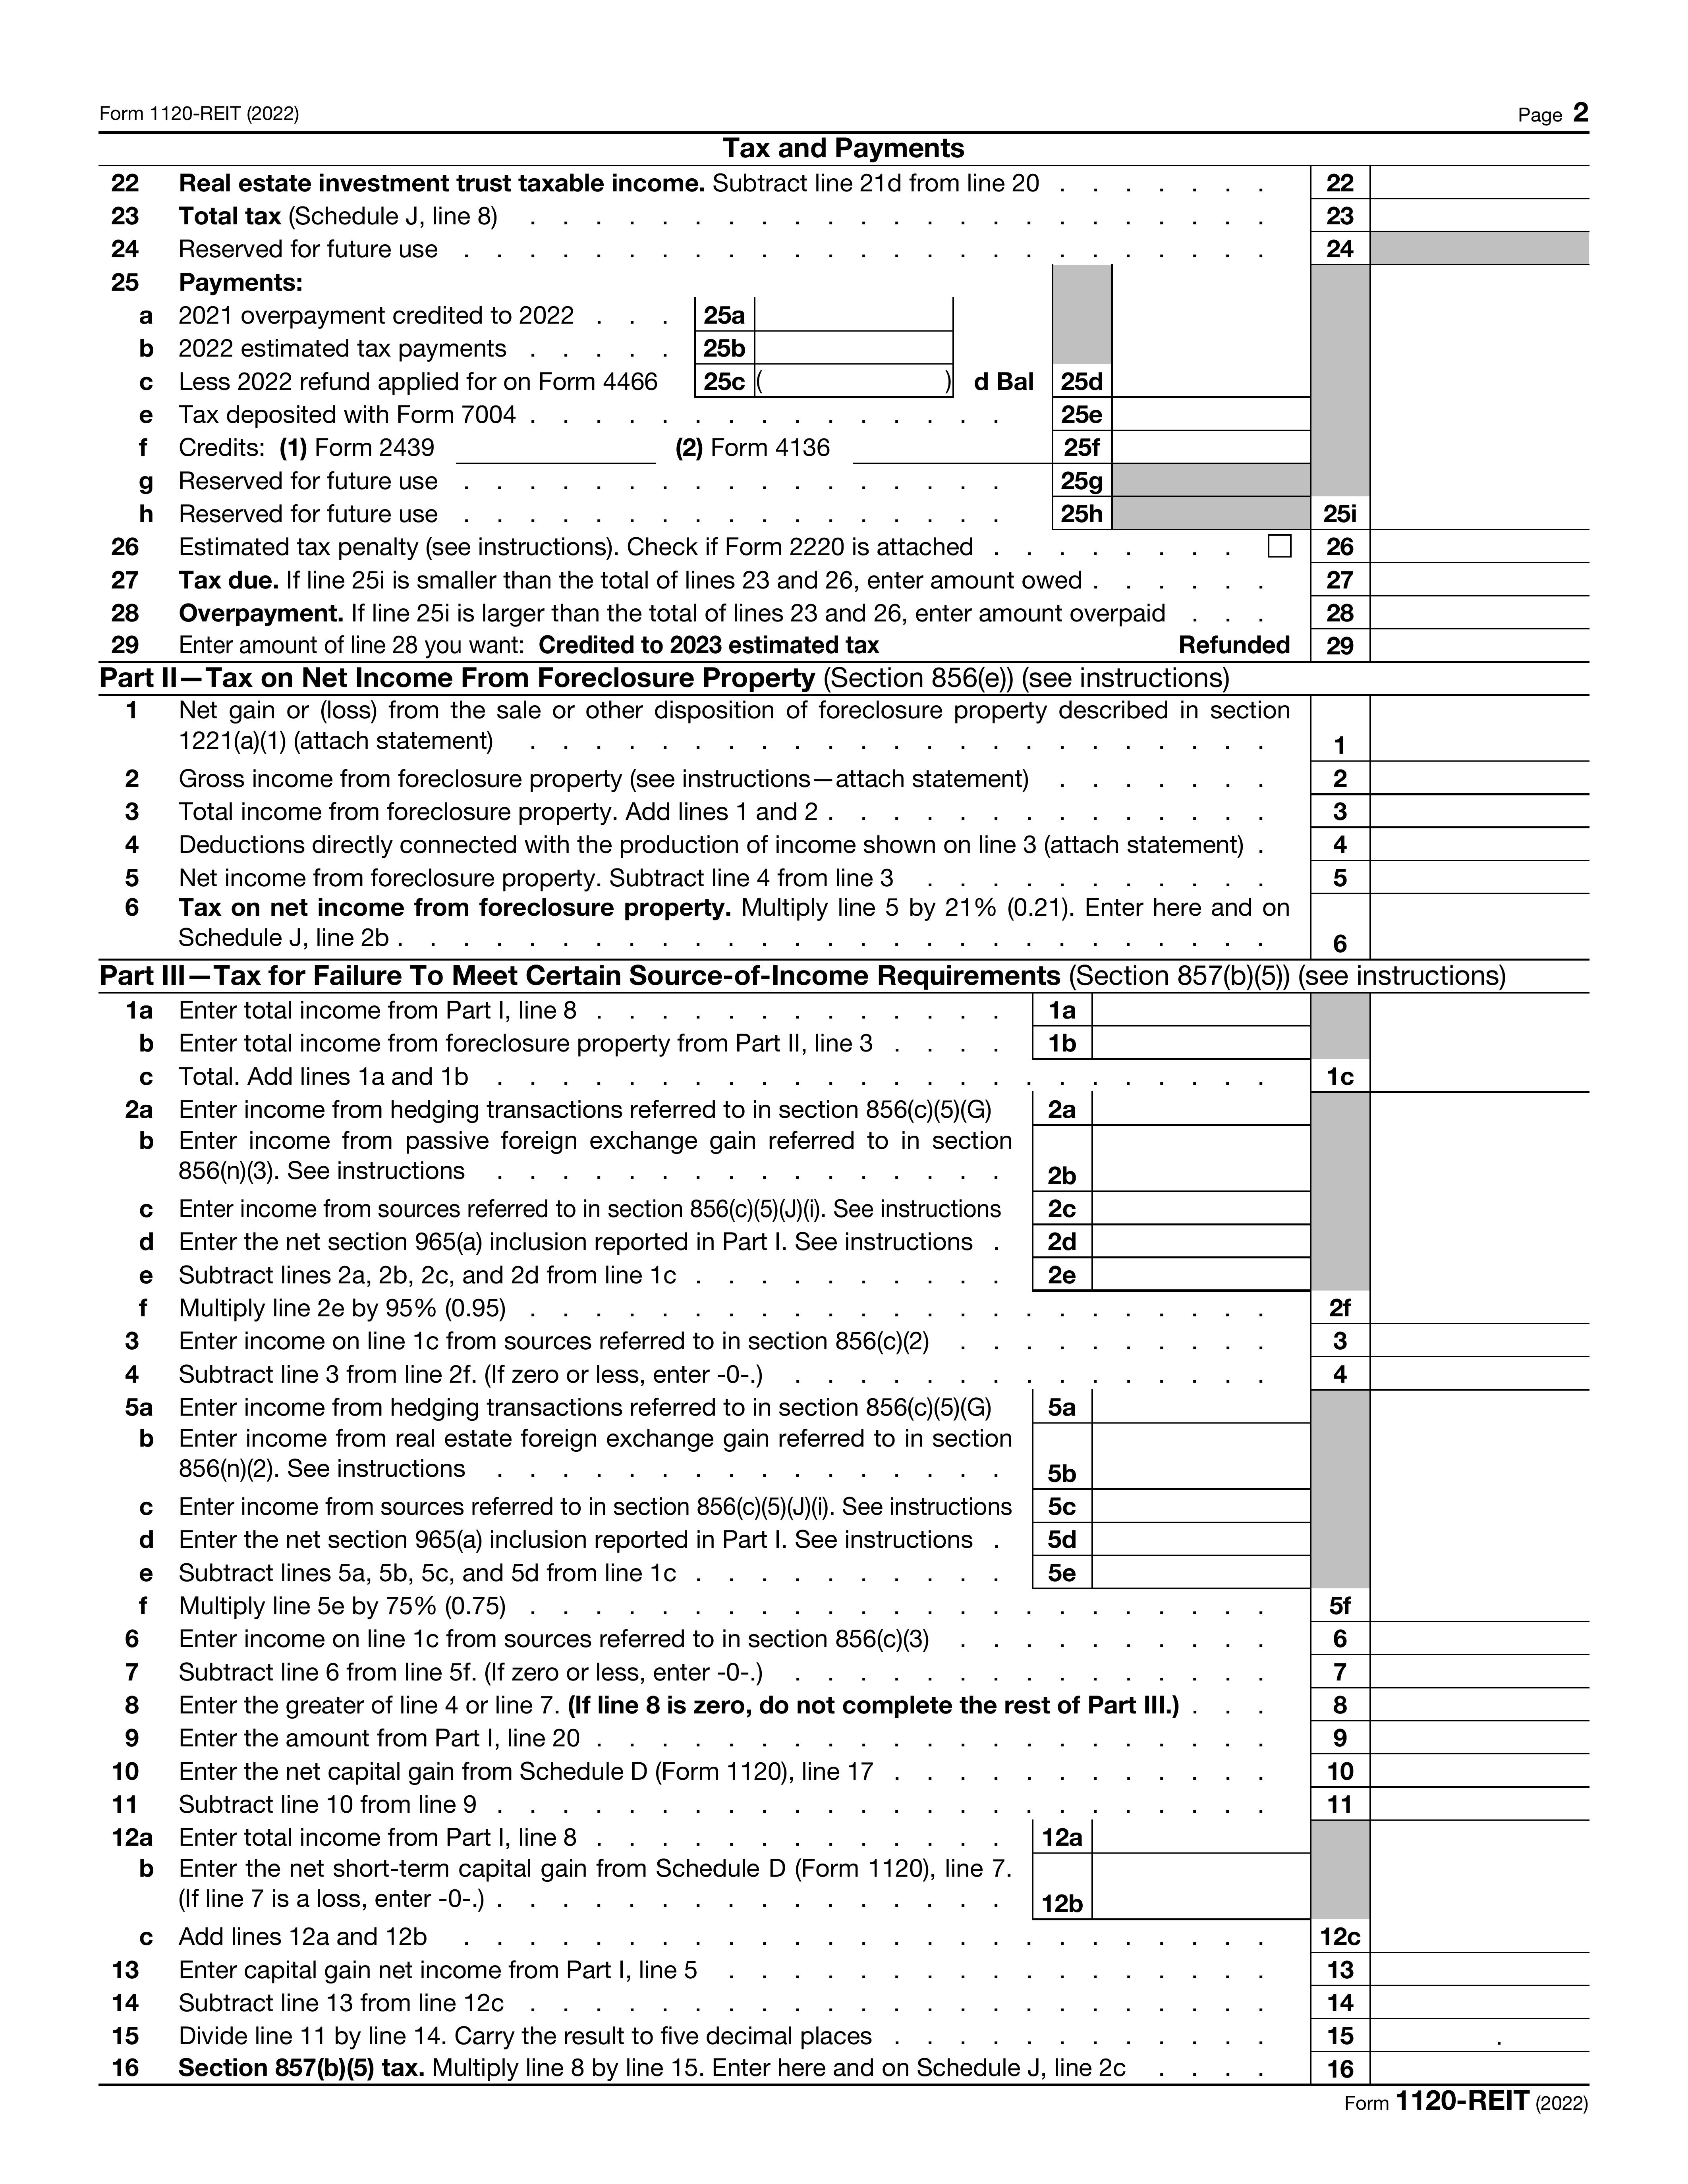table: (73, 996, 1610, 2088), (66, 167, 1617, 659), (67, 691, 1622, 961)
